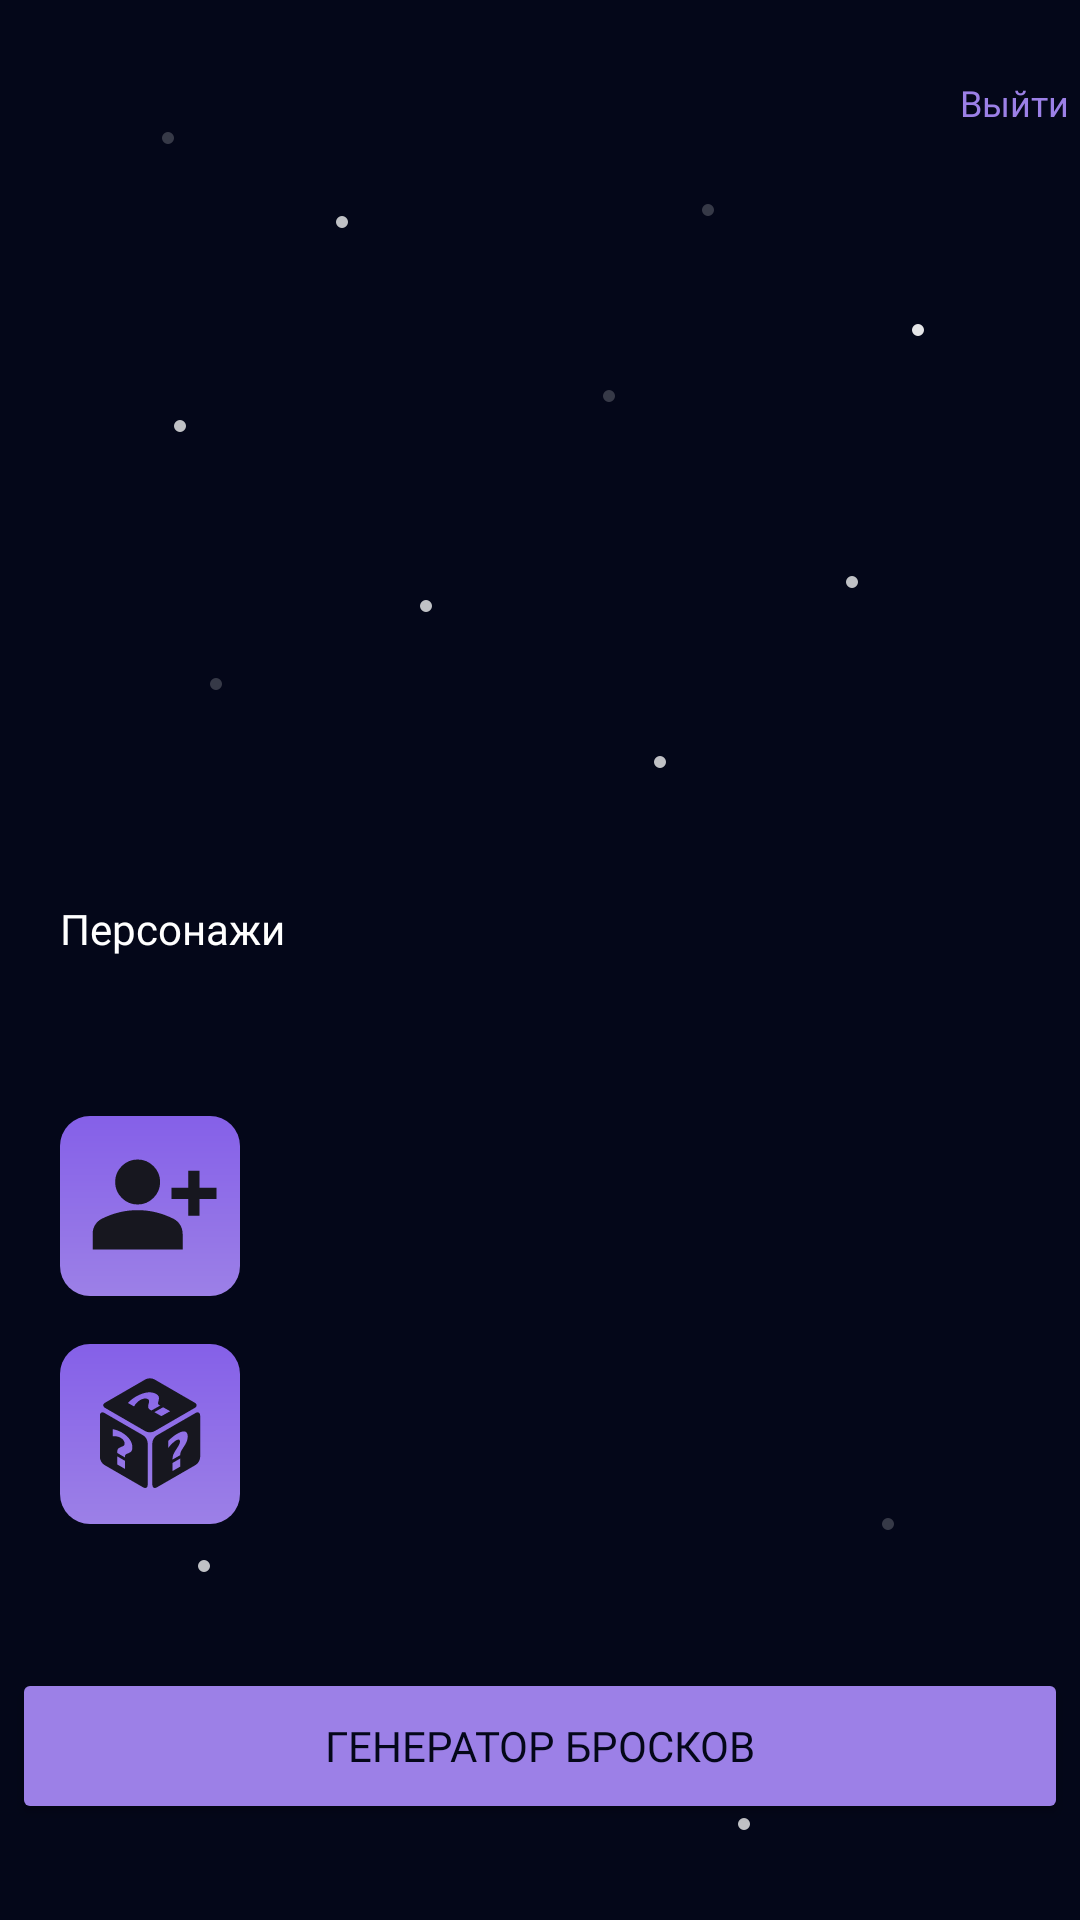

Named icons in this screenshot (1080px×1920px) and their bounding boxes, (x1, y1, x2, y2):
createcharacter: (60, 1116, 240, 1296)
generatecharacter: (60, 1344, 240, 1524)
